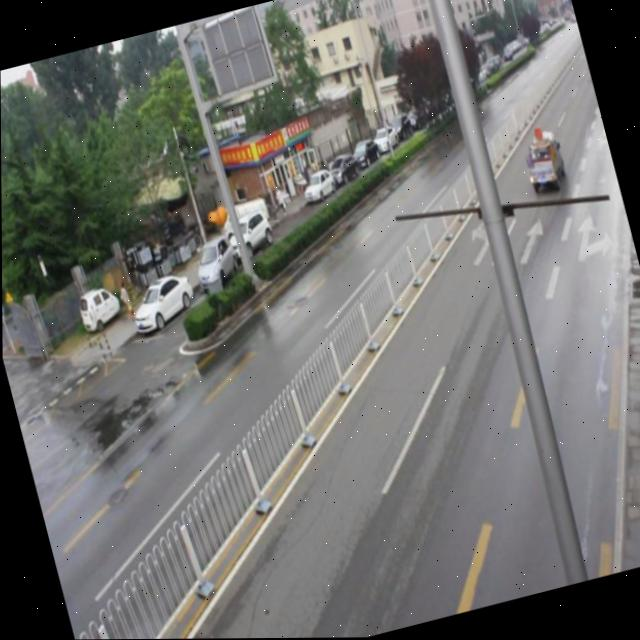bus: (517, 127, 568, 195)
